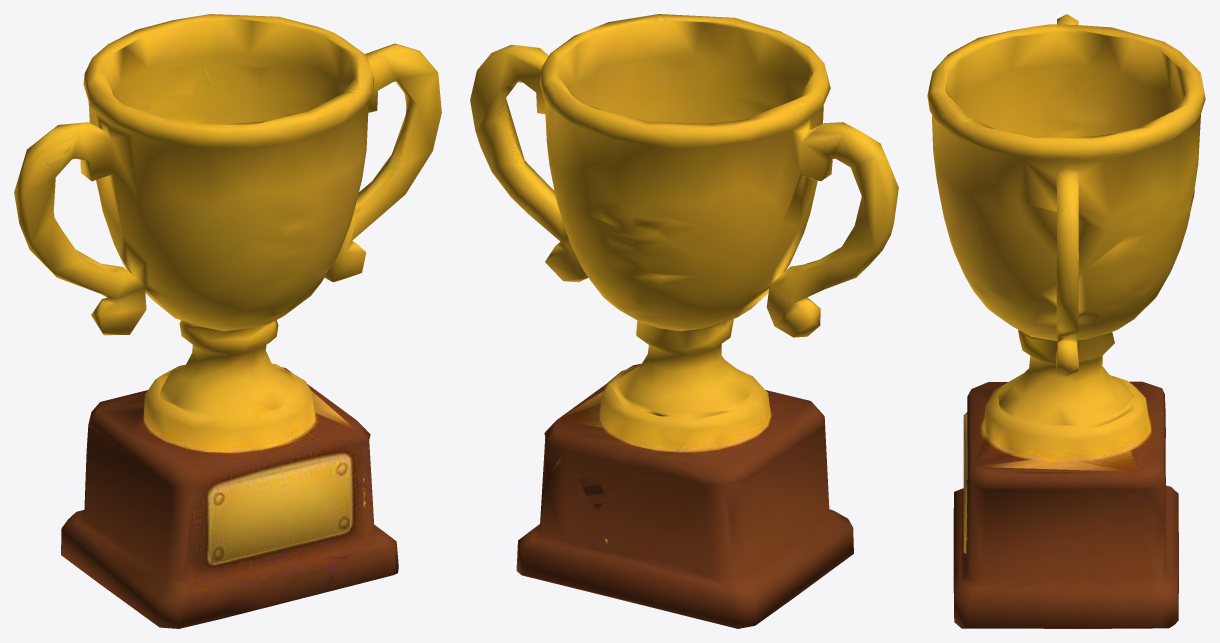
Rendered from trophy.glb.
3 views of the same model, side by side, from view 1: azimuth 30°, elevation 25°; view 2: azimuth 150°, elevation 25°; view 3: azimuth 270°, elevation 25° (orthographic).
Parts seen in each view (by area): view 1: model; view 2: model; view 3: model.
Part boxes in pixels (<box>): model: <box>14,14,441,628</box>; model: <box>470,14,898,628</box>; model: <box>927,14,1205,628</box>.
Bounding box in the file's own units: 1.69 × 1.9 × 0.9765.
1 material, 1 textured.
